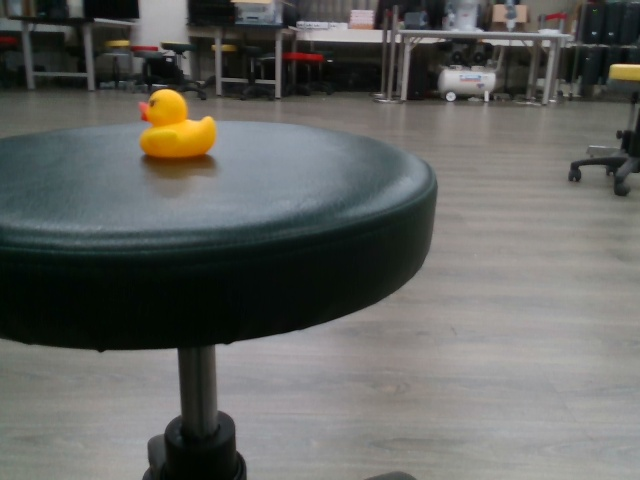duck: (136, 87, 220, 160)
